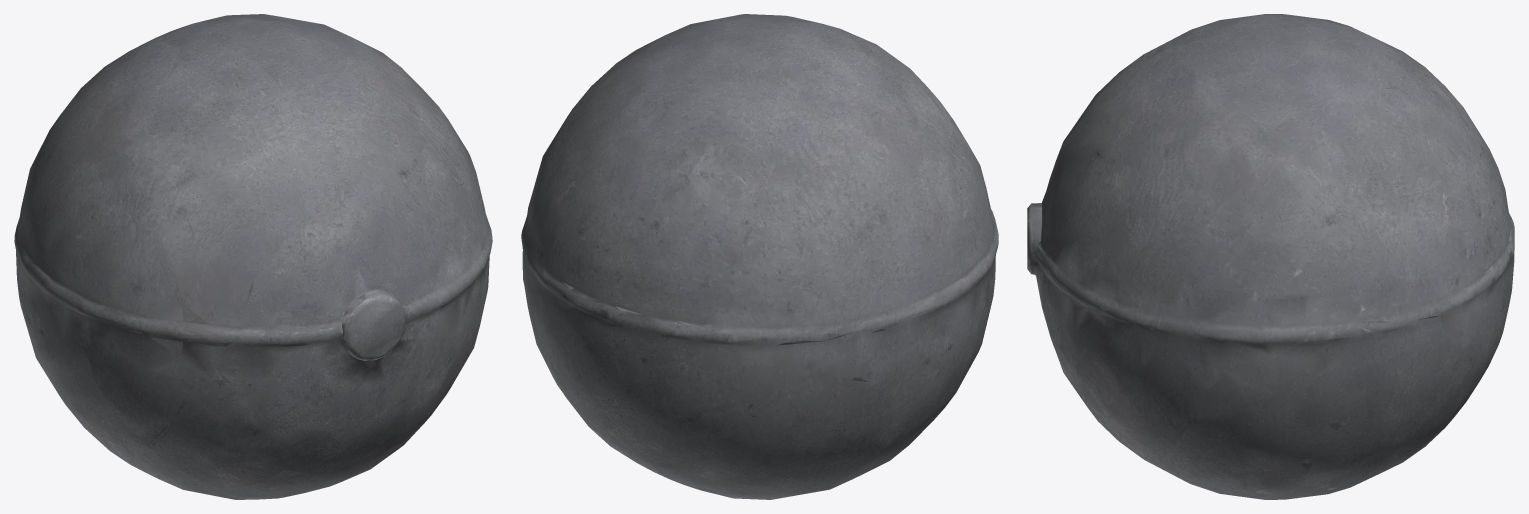
3 renders of one model, left to right at view 1: azimuth 30°, elevation 25°; view 2: azimuth 150°, elevation 25°; view 3: azimuth 270°, elevation 25°, orthographic.
Parts seen in each view (by area): view 1: Mesh_0.001; view 2: Mesh_0.001; view 3: Mesh_0.001.
Boxes of the visible parts, x1=… form: Mesh_0.001: x1=14, y1=14, x2=492, y2=499; Mesh_0.001: x1=521, y1=14, x2=998, y2=499; Mesh_0.001: x1=1027, y1=14, x2=1514, y2=499.
Bounding box in the file's own units: 0.059 × 0.06 × 0.0601.
Materials: 1 (1 with a texture image).
